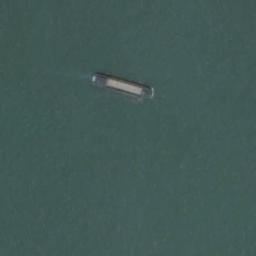boat: (90, 72, 154, 102)
